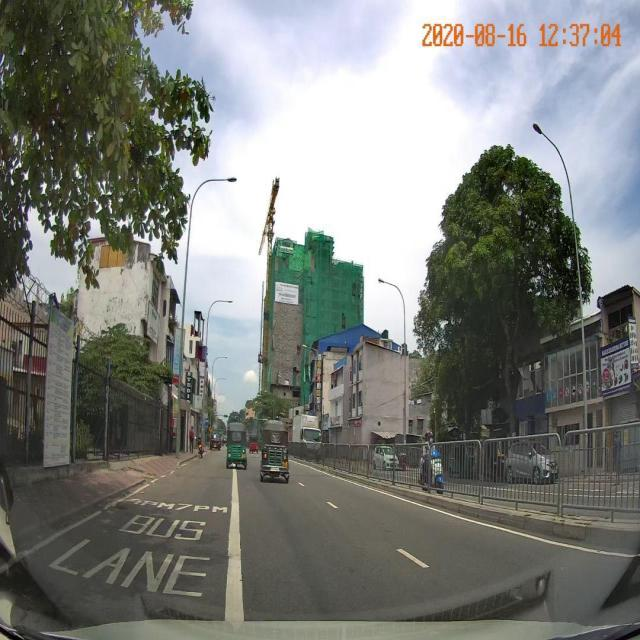BUS LANE: (35, 504, 225, 611)
Liniya 1: (224, 469, 247, 622)
